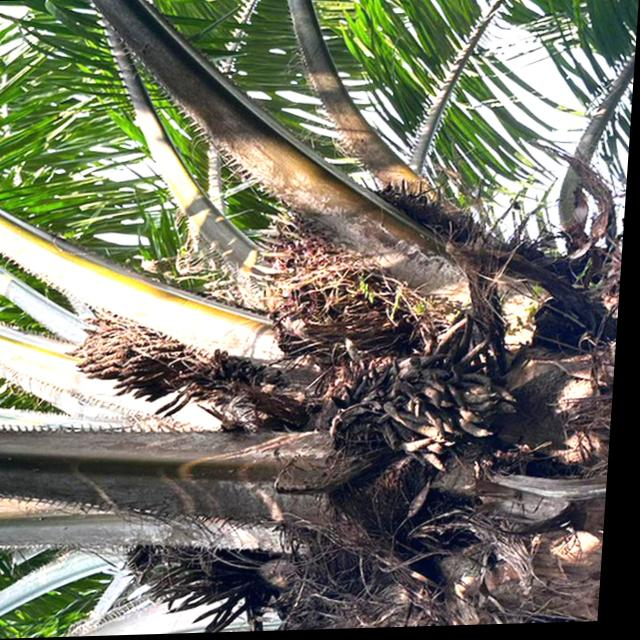ripe: (236, 202, 433, 371)
